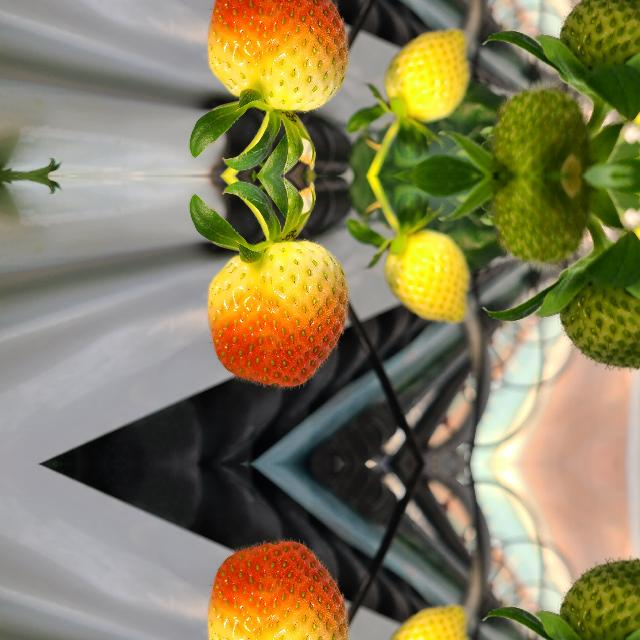Health_25: (560, 255, 640, 372), (560, 0, 639, 94), (560, 553, 639, 640)
Health_75: (208, 241, 348, 385), (208, 0, 348, 109), (208, 541, 348, 640)
